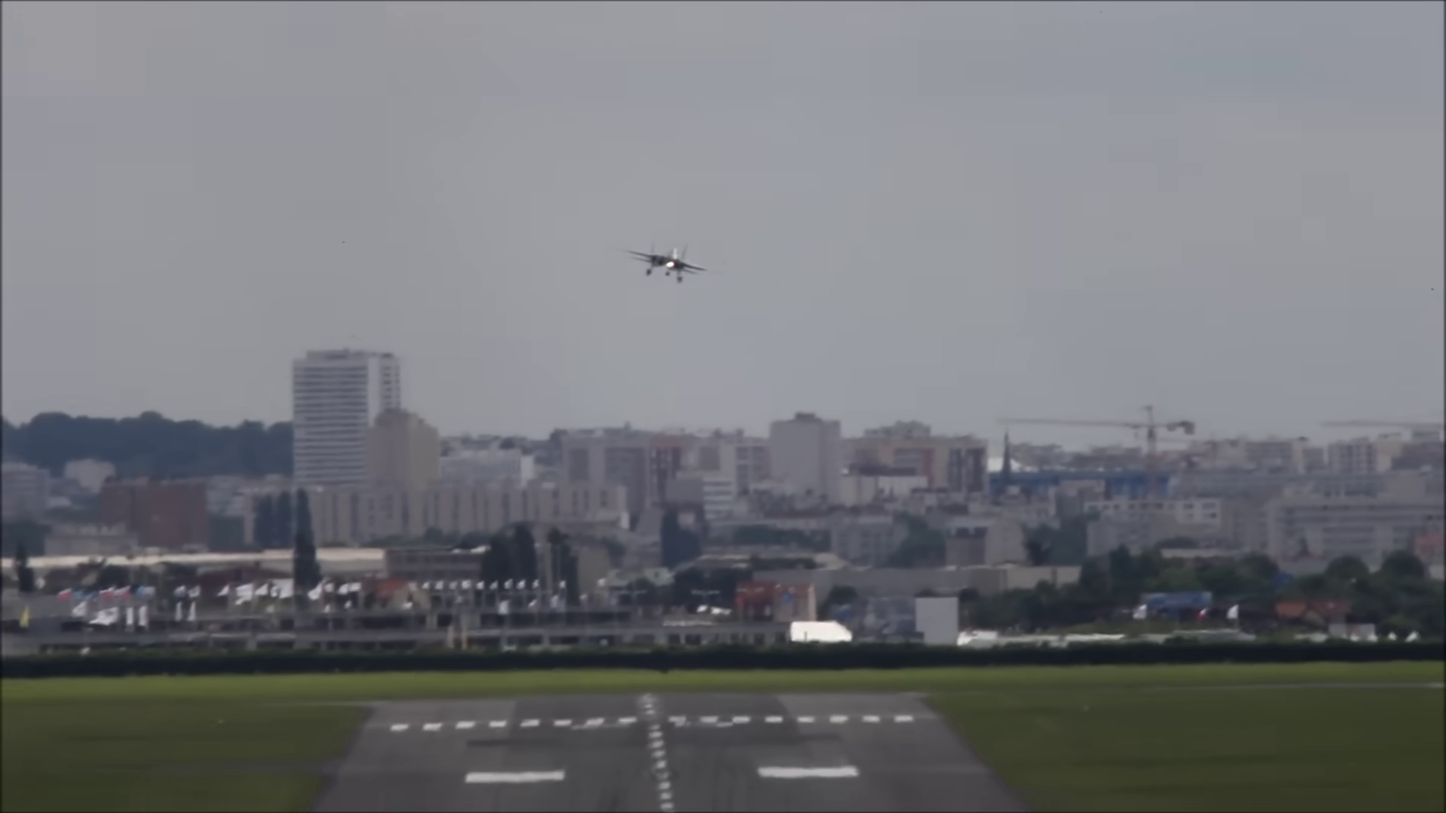Su35: (621, 234, 712, 293)
